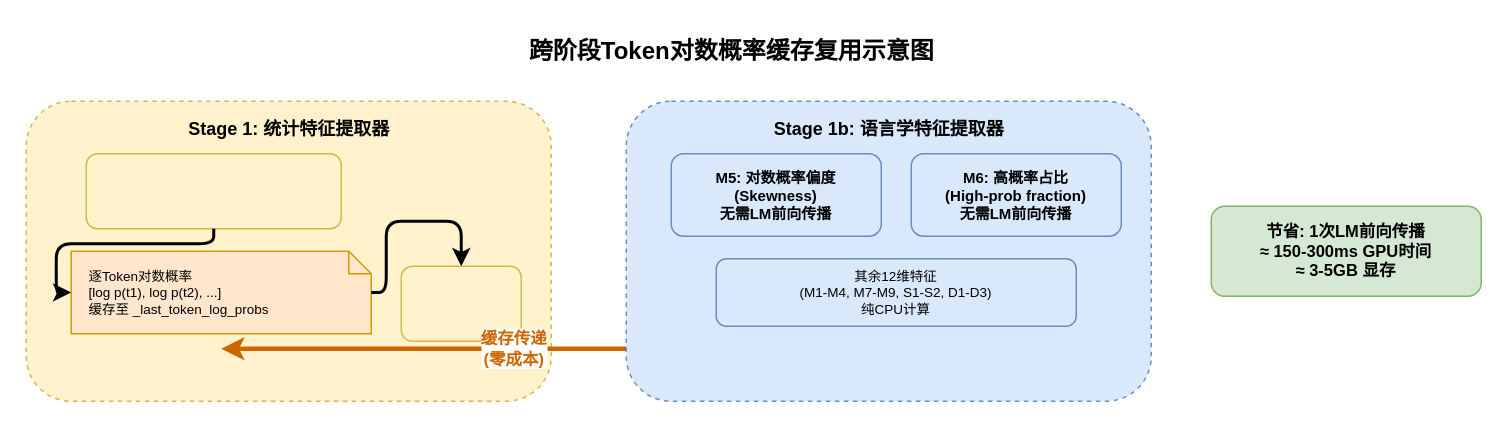
Image size: 1508x428. Some labels were removed from this diagram. Each missing label, with the centre of its shape:
"6维统计特征 困惑度/熵/爆发度" goes at (460,303).
"参考语言模型 (GPT-2-XL / Wenzhong) 前向传播" goes at (213,190).
